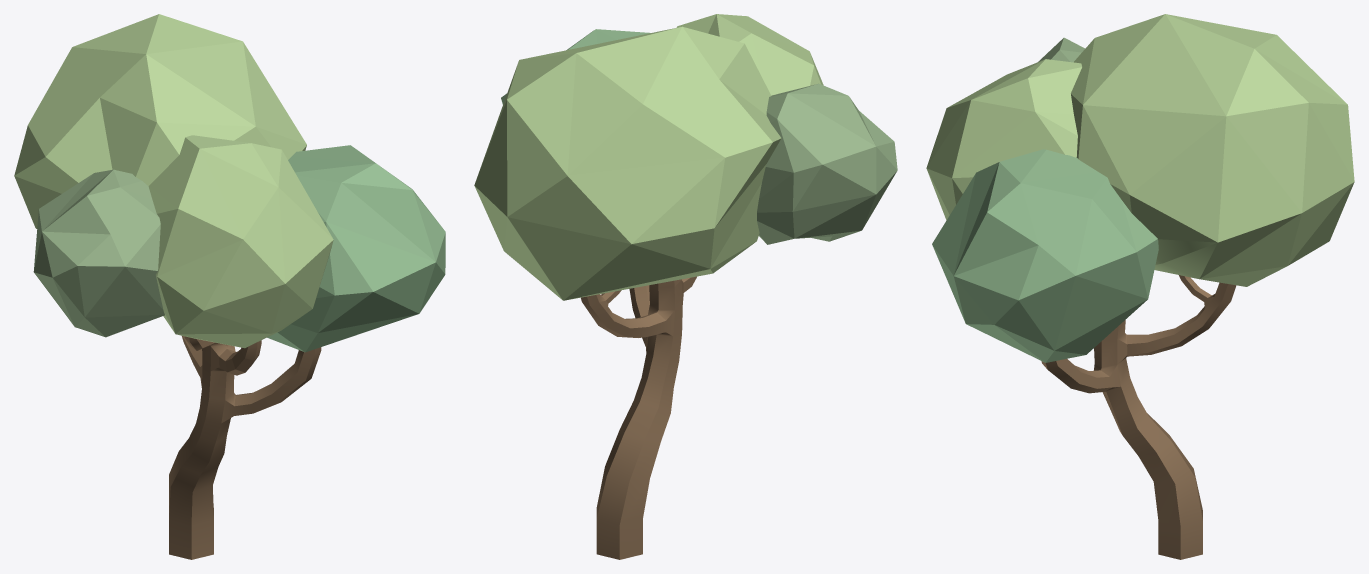
The model's file is tree1.fbx.
3 renders of one model, left to right at view 1: azimuth 30°, elevation 25°; view 2: azimuth 150°, elevation 25°; view 3: azimuth 270°, elevation 25°, orthographic. The views are drawn at different scales.
Parts seen in each view (by area): view 1: pCube8, pCube10, pCube9, pCube7, pCylinder51; view 2: pCube8, pCube7, pCylinder51, pCube10, pCube9; view 3: pCube8, pCube9, pCylinder51, pCube10, pCube7.
Part boxes in pixels (x1=…): pCube8: x1=14, y1=14, x2=306, y2=228; pCube10: x1=148, y1=135, x2=333, y2=348; pCube9: x1=267, y1=145, x2=445, y2=352; pCube7: x1=33, y1=169, x2=164, y2=337; pCylinder51: x1=169, y1=336, x2=321, y2=559; pCube8: x1=474, y1=26, x2=781, y2=300; pCube7: x1=757, y1=83, x2=897, y2=244; pCylinder51: x1=581, y1=276, x2=696, y2=559; pCube10: x1=676, y1=14, x2=823, y2=95; pCube9: x1=501, y1=29, x2=650, y2=104; pCube8: x1=1071, y1=14, x2=1354, y2=286; pCube9: x1=932, y1=149, x2=1158, y2=362; pCylinder51: x1=1041, y1=275, x2=1236, y2=559; pCube10: x1=926, y1=59, x2=1081, y2=220; pCube7: x1=1038, y1=37, x2=1085, y2=62.
Size of the model in its own units: 8.72 by 11.35 by 8.65.
